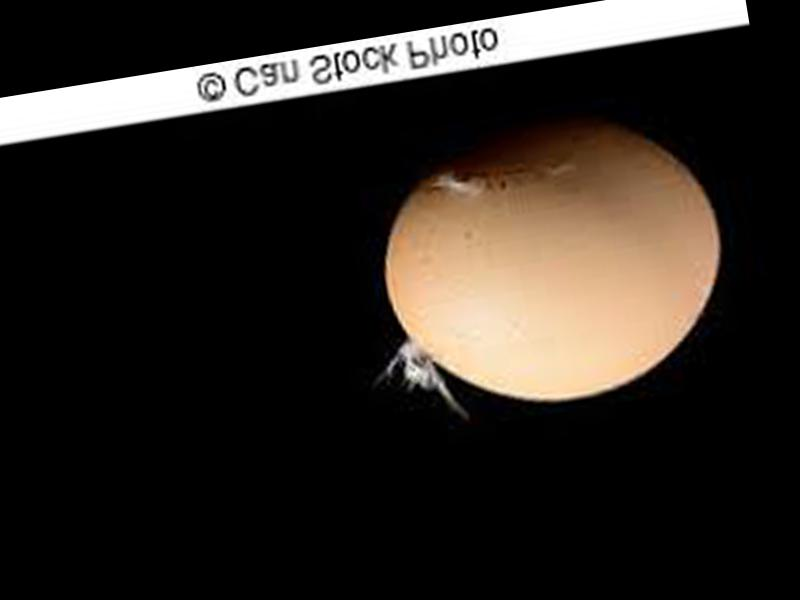Eggs: (365, 96, 741, 422)
